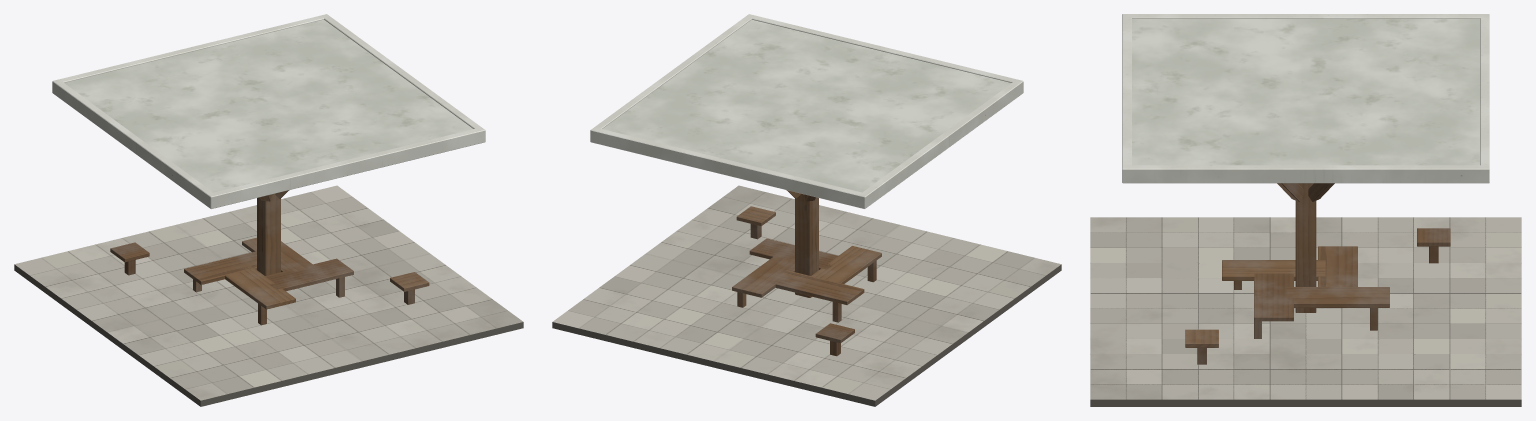
Rendered from Pergola.gltf.
The picture shows the model from 3 angles, left to right: view 1: azimuth 30°, elevation 25°; view 2: azimuth 150°, elevation 25°; view 3: azimuth 270°, elevation 25°; orthographic projection. The views are drawn at different scales.
Visible parts, largest first — view 1: Pergola; view 2: Pergola; view 3: Pergola.
Part boxes in pixels (x1=…): Pergola: x1=14, y1=14, x2=523, y2=406; Pergola: x1=552, y1=14, x2=1061, y2=406; Pergola: x1=1090, y1=14, x2=1521, y2=406.
Size of the model in its own units: 5.4 by 3.15 by 5.4.
4 materials, 4 textured.
